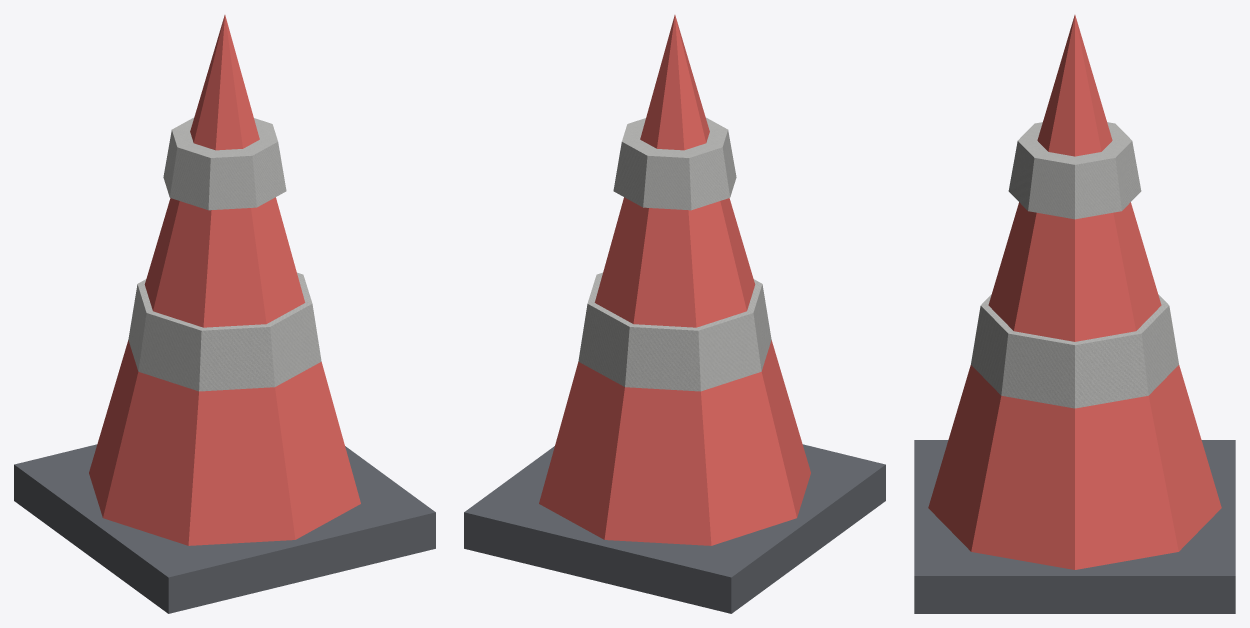
The model's file is go-kart-track-and-pit-lane-bollard-cone-cac356f4__34343.glb.
The picture shows the model from 3 angles, left to right: view 1: azimuth 30°, elevation 25°; view 2: azimuth 150°, elevation 25°; view 3: azimuth 270°, elevation 25°; orthographic projection. The views are drawn at different scales.
Parts seen in each view (by area): view 1: bollard-cone-red, bollard-cone-charcoal, bollard-cone-concrete; view 2: bollard-cone-red, bollard-cone-charcoal, bollard-cone-concrete; view 3: bollard-cone-red, bollard-cone-charcoal, bollard-cone-concrete.
Part boxes in pixels (x1=…): bollard-cone-red: x1=89, y1=15, x2=360, y2=545; bollard-cone-charcoal: x1=14, y1=444, x2=435, y2=613; bollard-cone-concrete: x1=128, y1=117, x2=321, y2=391; bollard-cone-red: x1=539, y1=15, x2=810, y2=545; bollard-cone-charcoal: x1=464, y1=444, x2=885, y2=613; bollard-cone-concrete: x1=578, y1=117, x2=771, y2=391; bollard-cone-red: x1=928, y1=15, x2=1221, y2=569; bollard-cone-charcoal: x1=914, y1=440, x2=1235, y2=613; bollard-cone-concrete: x1=971, y1=122, x2=1178, y2=408.
Bounding box in the file's own units: 0.46 × 0.84 × 0.46.
Materials: 3 (1 with a texture image).
